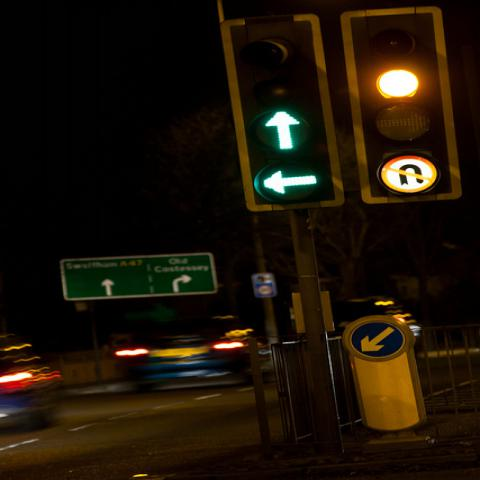car: (105, 323, 252, 394), (2, 329, 67, 388)
